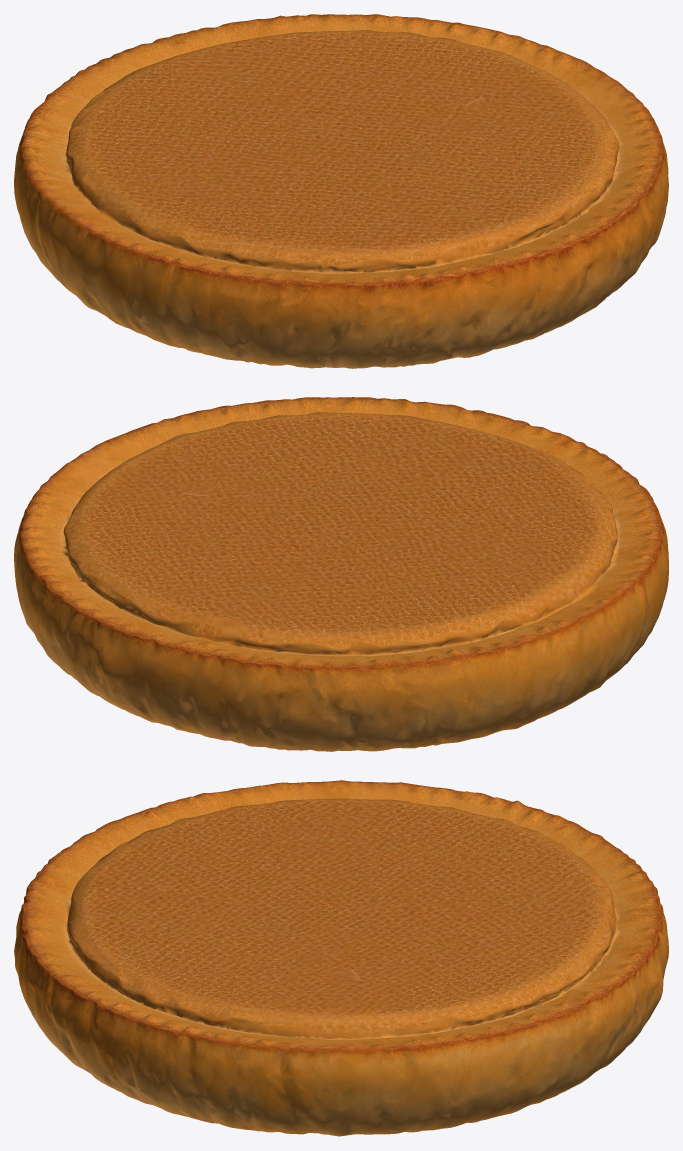
File: bun-bottom.glb
The picture shows the model from 3 angles, top to bottom: view 1: azimuth 30°, elevation 25°; view 2: azimuth 150°, elevation 25°; view 3: azimuth 270°, elevation 25°; orthographic projection.
Bounding box in the file's own units: 1.9 × 0.3652 × 1.9.
1 material, 1 textured.
